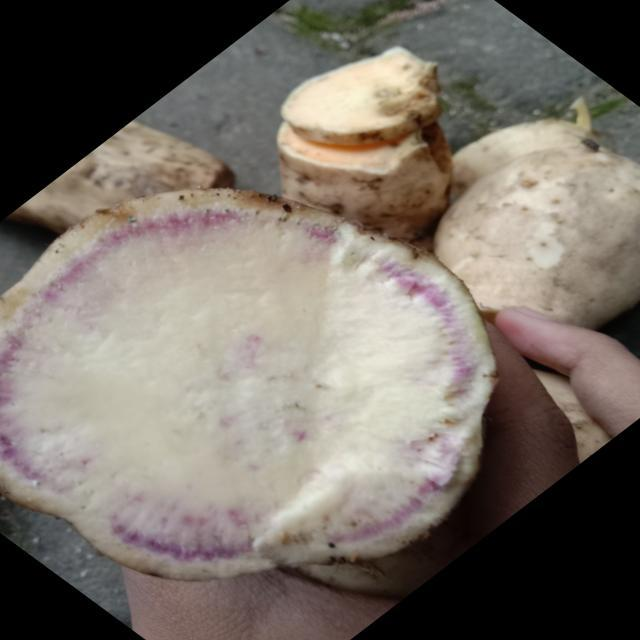Healthy Sweet Potato: (2, 189, 493, 580)
